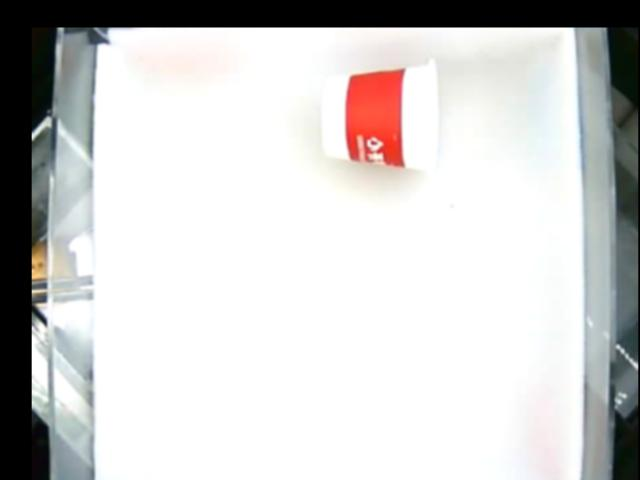Cup: (320, 58, 447, 172)
